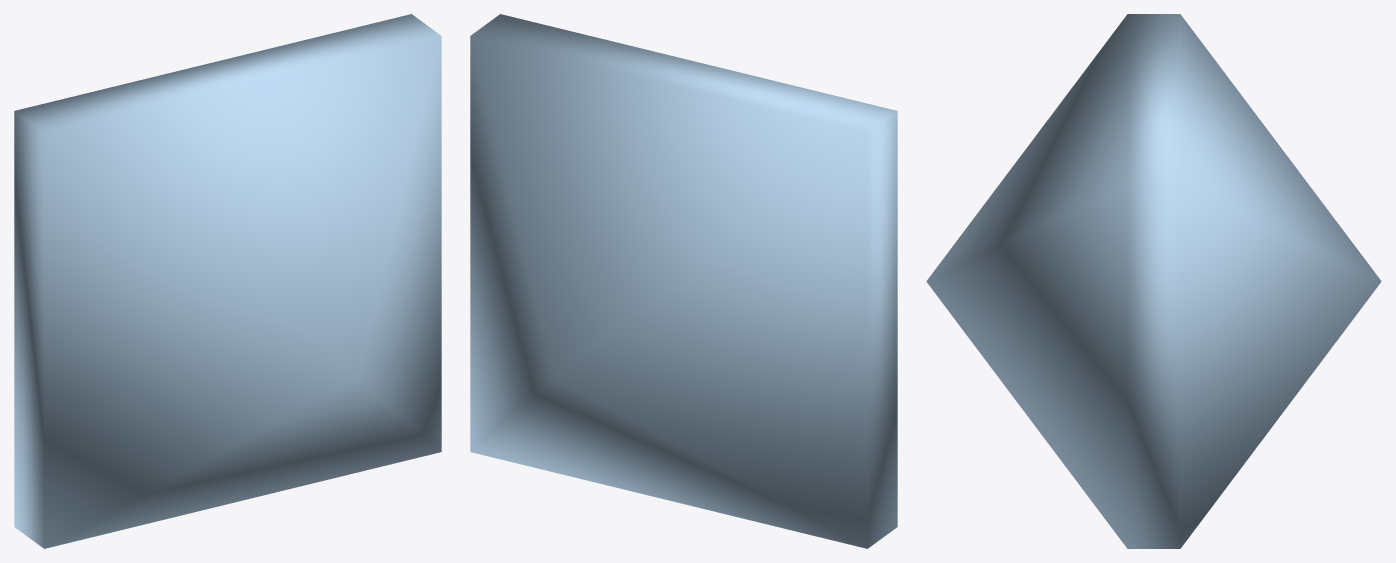
The model's file is zircon.glb.
3 views of the same model, side by side, from view 1: azimuth 30°, elevation 25°; view 2: azimuth 150°, elevation 25°; view 3: azimuth 270°, elevation 25° (orthographic). The views are drawn at different scales.
Parts seen in each view (by area): view 1: zircon; view 2: zircon; view 3: zircon.
Part boxes in pixels (bbox=[...]): zircon: bbox=[14, 14, 441, 548]; zircon: bbox=[470, 14, 897, 548]; zircon: bbox=[926, 14, 1381, 548].
Size of the model in its own units: 2 by 2 by 2.26.
